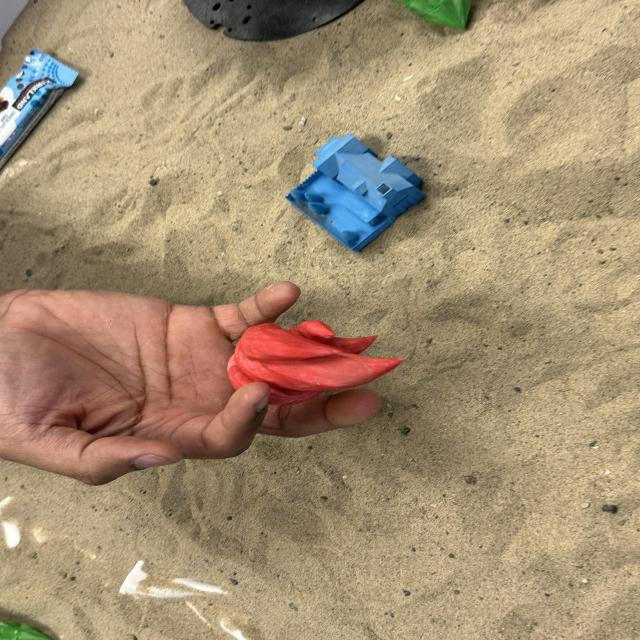fire: (226, 318, 407, 408)
house: (284, 132, 427, 254)
